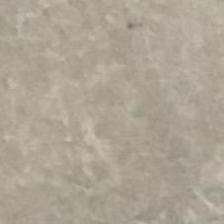Non_Crack: (13, 13, 202, 174)
